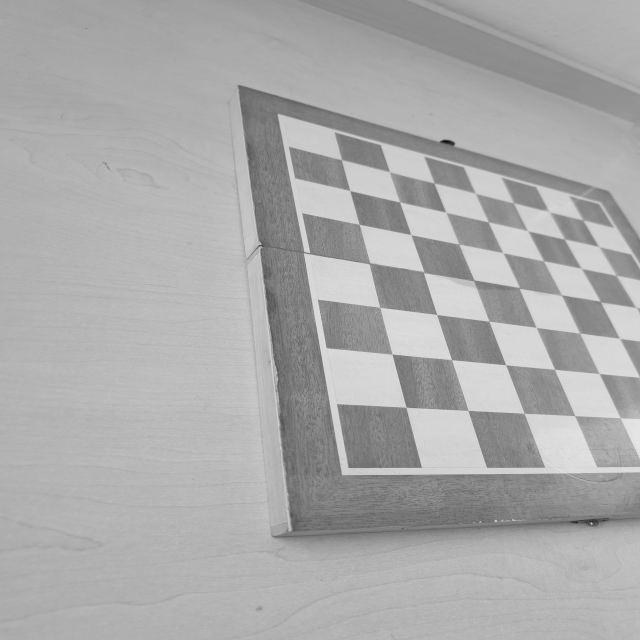chess-table-corners: (330, 454, 368, 480), (271, 108, 295, 126), (592, 200, 606, 210)
